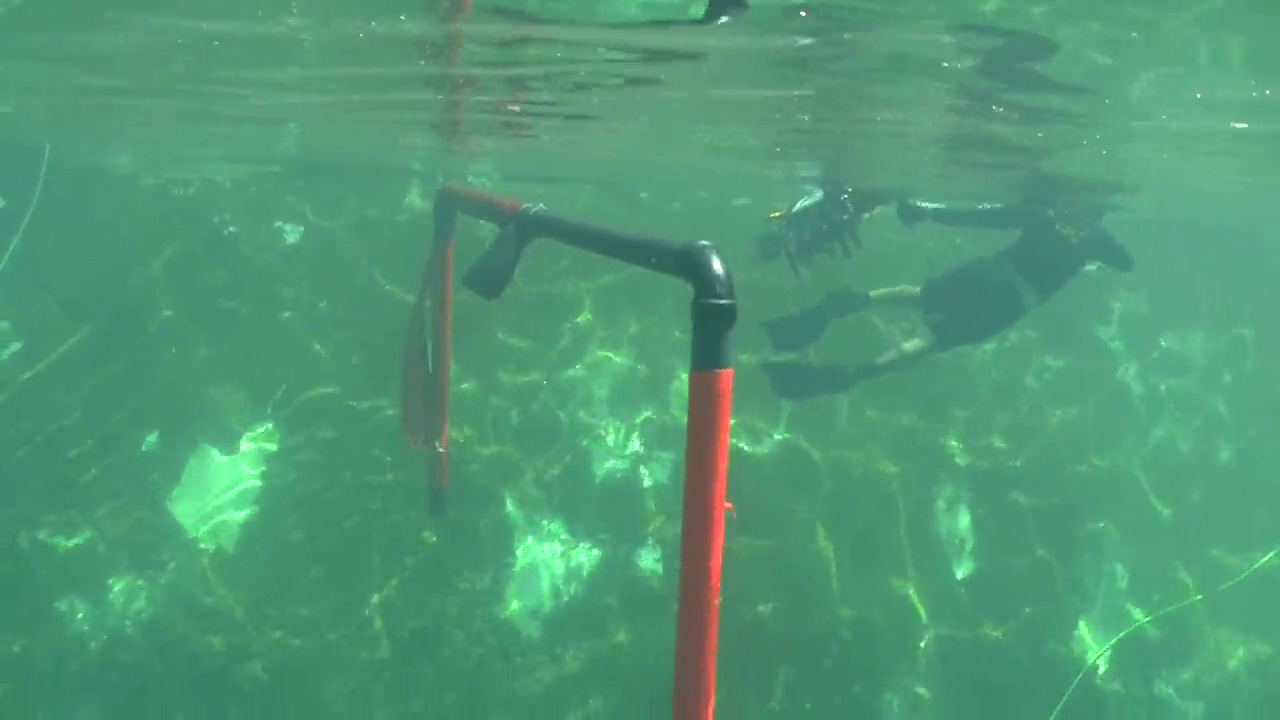gate: (410, 171, 740, 720)
